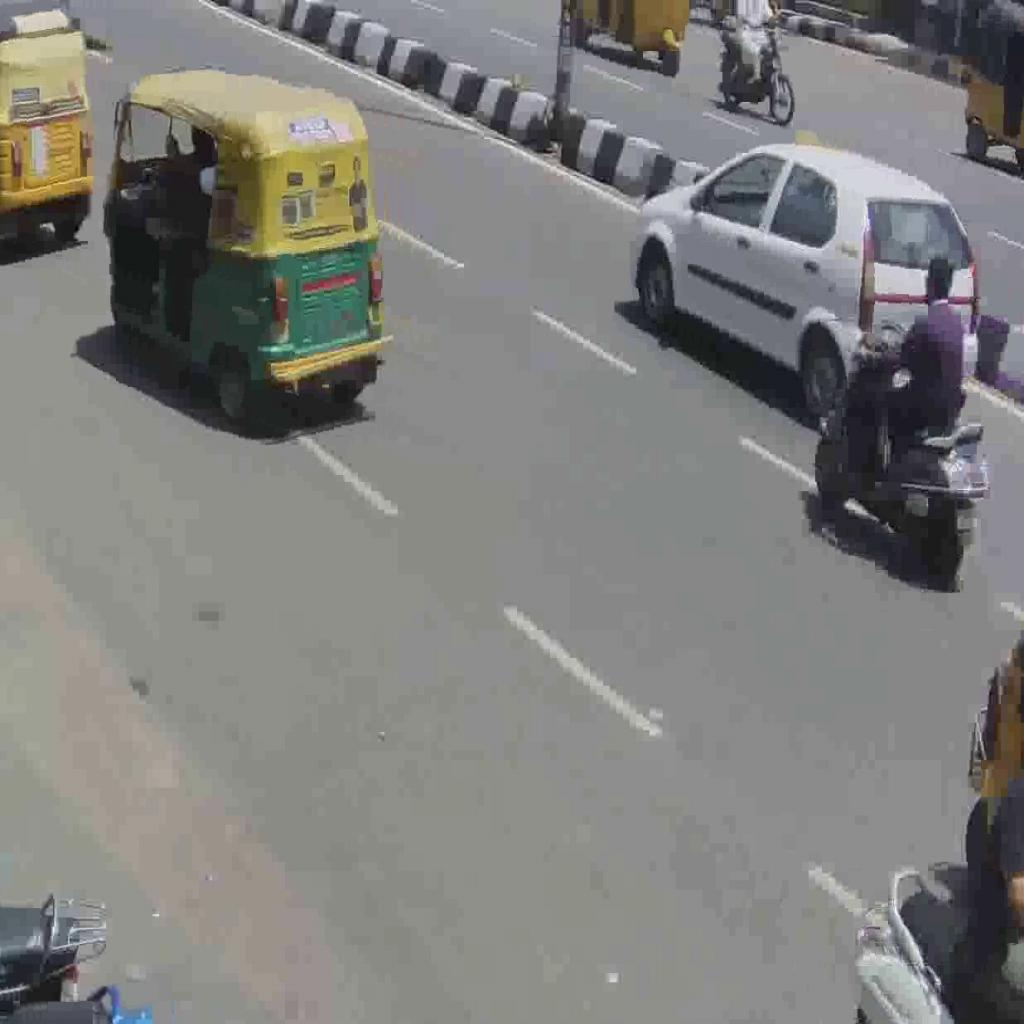helmet: (813, 317, 991, 590)
